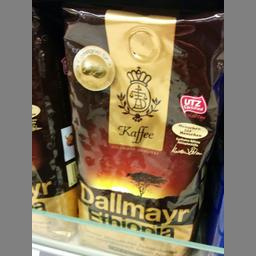coffee: (58, 1, 222, 255)
